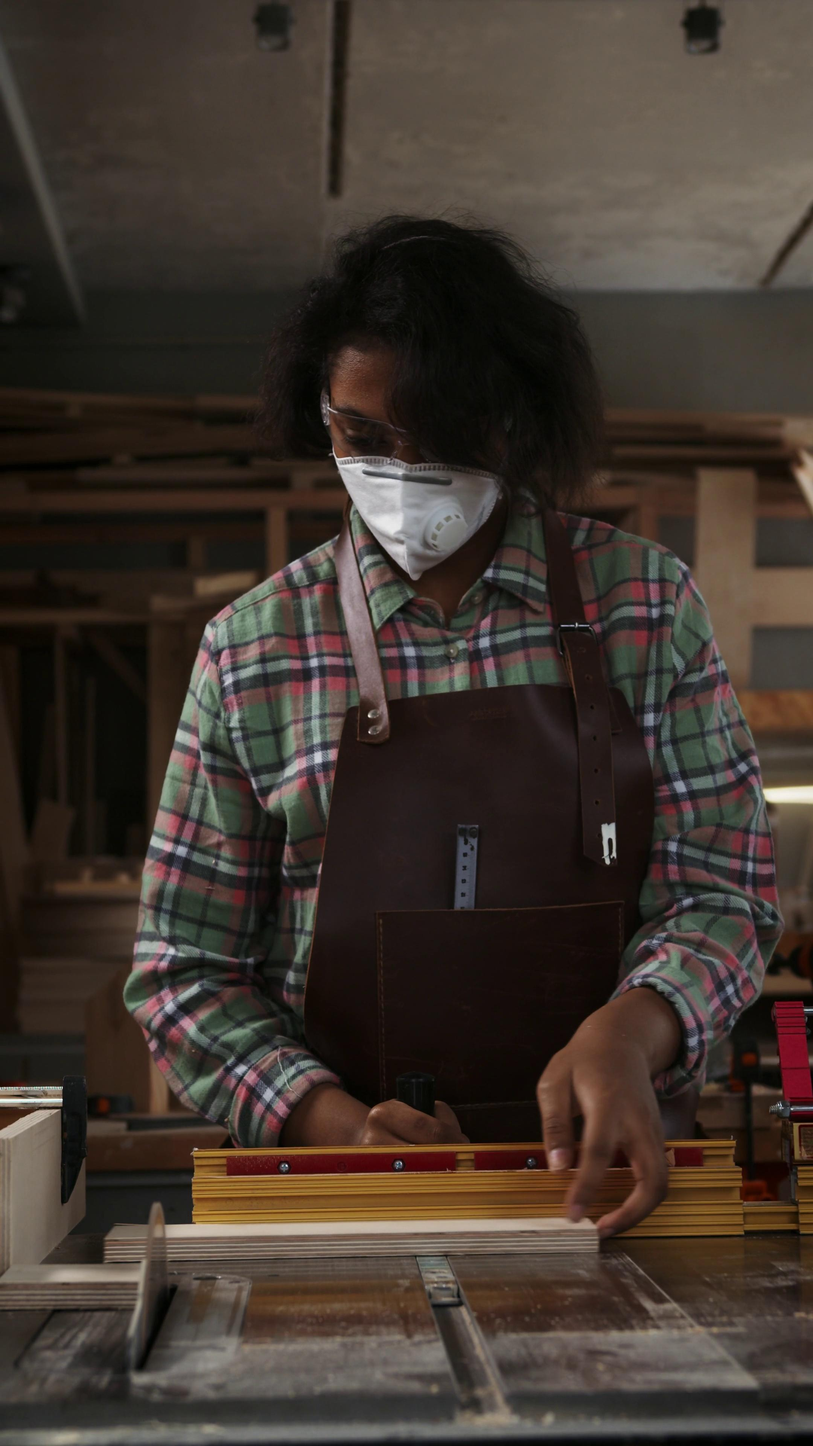mask: (331, 455, 500, 581)
person: (123, 217, 786, 1242)
